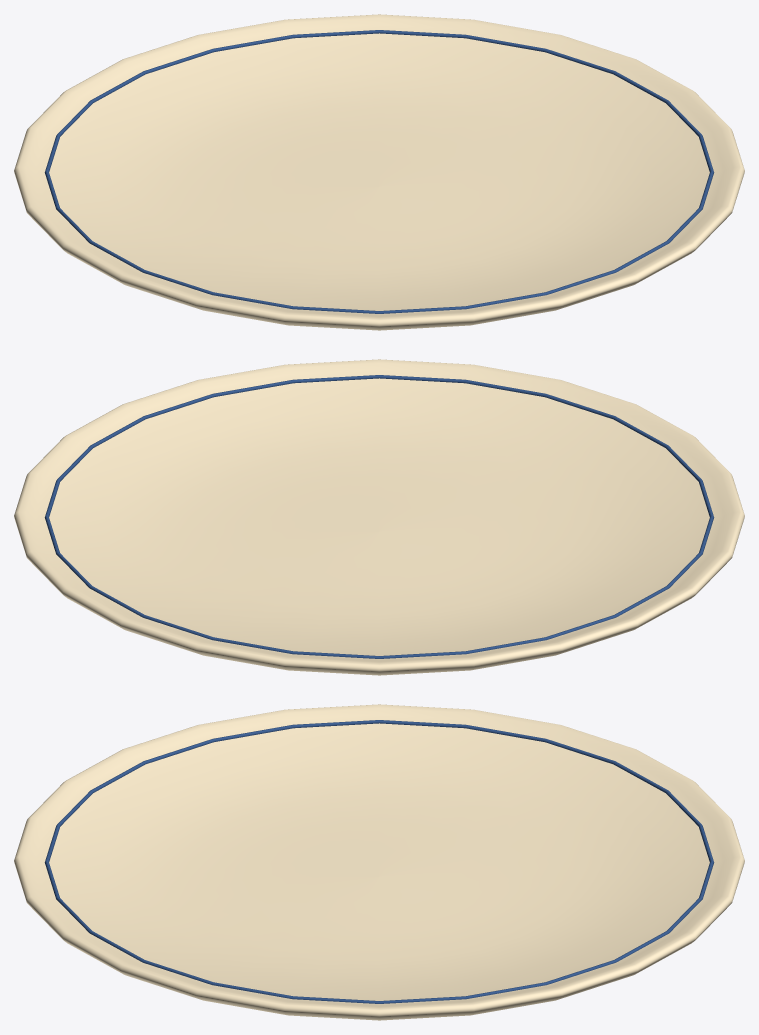
File: dishwasher-plate-5.3-3-light.glb
3 views of the same model, one above another, from view 1: azimuth 30°, elevation 25°; view 2: azimuth 150°, elevation 25°; view 3: azimuth 270°, elevation 25° (orthographic).
Parts seen in each view (by area): view 1: ivory, blue; view 2: ivory, blue; view 3: ivory, blue.
Part boxes in pixels (x1=…): ivory: x1=14, y1=14, x2=744, y2=330; blue: x1=44, y1=30, x2=714, y2=313; ivory: x1=14, y1=359, x2=744, y2=675; blue: x1=44, y1=375, x2=714, y2=658; ivory: x1=14, y1=704, x2=744, y2=1020; blue: x1=44, y1=720, x2=714, y2=1003.
Bounding box in the file's own units: 4 × 0.1667 × 4.
